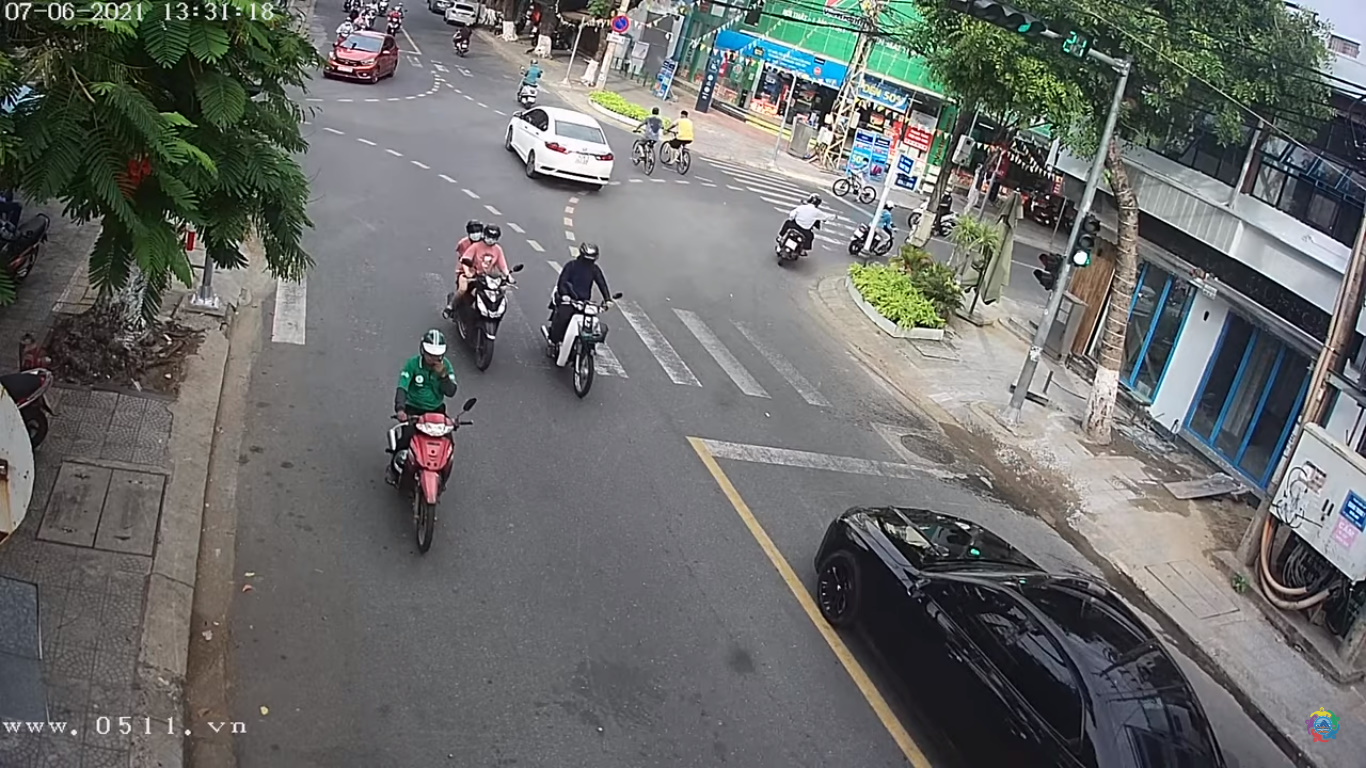car: (327, 28, 402, 84)
motorbike: (382, 330, 473, 553), (451, 217, 524, 372), (549, 241, 619, 401)
